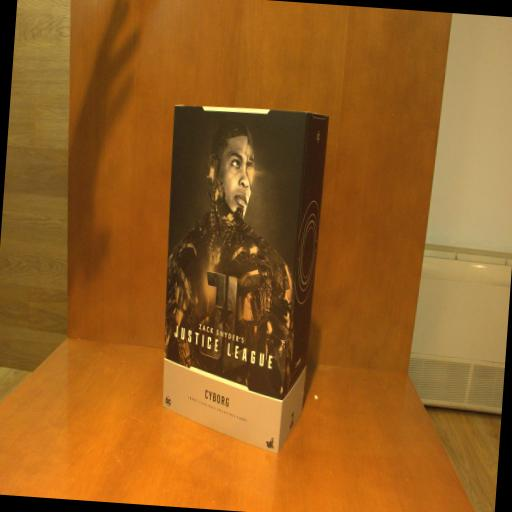Cyborg: (150, 102, 329, 460)
